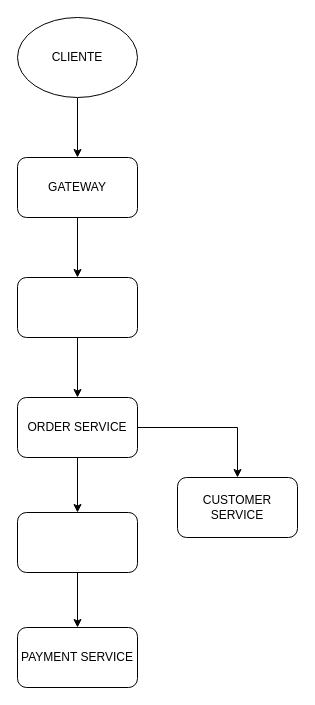
Image size: 315x705. Some labels were removed from this diagram. The centre of each missing label's shape, as x and y in pixels:
AUTH SERVICE: pixel 77 307
PRICING SERVICE: pixel 77 542
